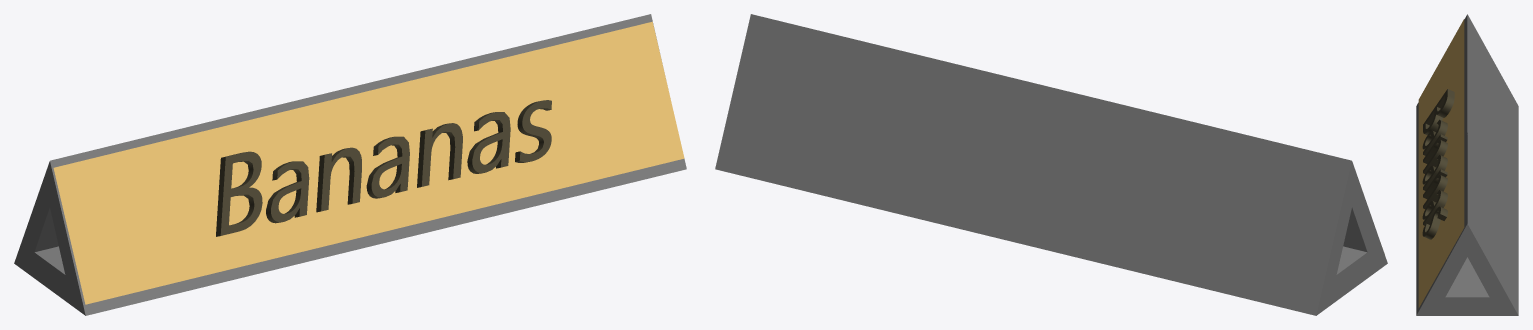
File: Name Tag.fbx
3 views of the same model, side by side, from view 1: azimuth 30°, elevation 25°; view 2: azimuth 150°, elevation 25°; view 3: azimuth 270°, elevation 25° (orthographic). The views are drawn at different scales.
Visible parts, largest first — view 1: root, node_id4, node_id49; view 2: node_id4; view 3: node_id4, root, node_id49.
Boxes of the visible parts, x1,y1,x2,y2 form: root: (53, 21, 684, 304); node_id4: (14, 14, 686, 315); node_id49: (216, 100, 551, 236); node_id4: (715, 14, 1387, 315); node_id4: (1416, 14, 1518, 315); root: (1418, 19, 1464, 307); node_id49: (1422, 89, 1454, 239).
Bounding box in the file's own units: 0.512 × 0.105 × 0.1057.
Materials: 3 (1 with a texture image).
